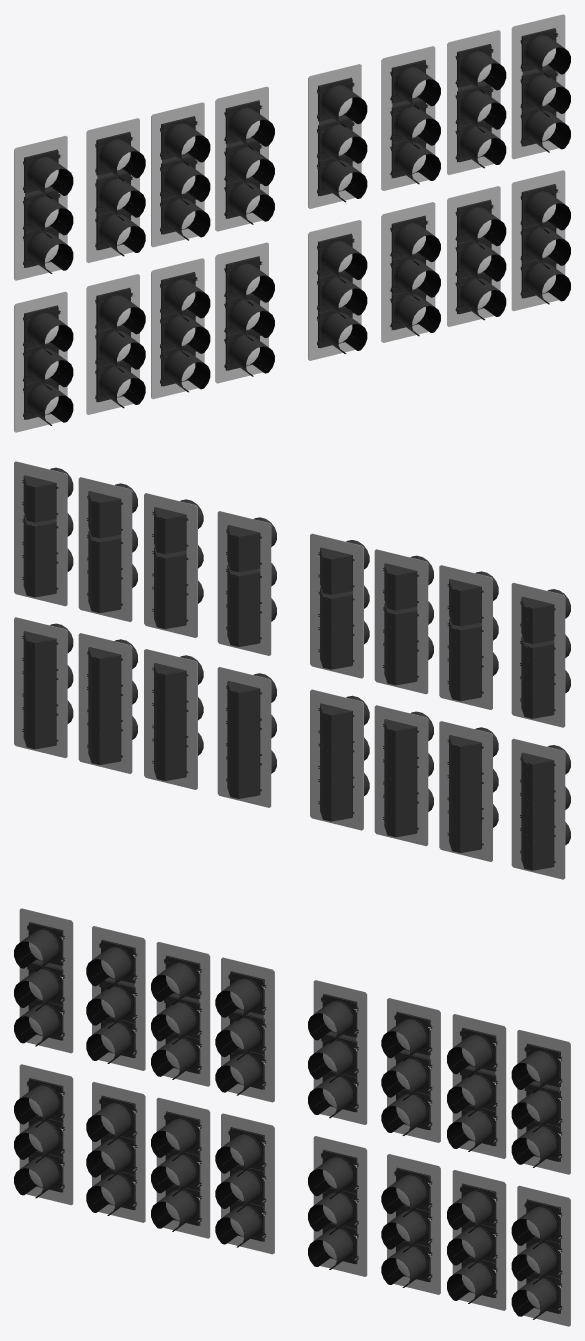
The model's file is McCain Color and Clear Alum Signals.fbx.
The picture shows the model from 3 angles, top to bottom: view 1: azimuth 30°, elevation 25°; view 2: azimuth 150°, elevation 25°; view 3: azimuth 330°, elevation 25°; orthographic projection.
Visible parts, largest first — view 1: Cylinder.060, Cylinder.056, Cylinder.050, Cylinder.042, Cylinder.046, Cylinder.038, Cylinder.054, Cylinder.058, Cylinder.023, Cylinder.010, Cylinder.033, Cylinder.025 (+4 smaller); view 2: Cylinder.054, Cylinder.058, Cylinder.046, Cylinder.038, Cylinder.042, Cylinder.050, Cylinder.056, Cylinder.060, Cylinder.021, Cylinder.029, Cylinder.009, Cylinder.008 (+4 smaller); view 3: Cylinder.058, Cylinder.054, Cylinder.038, Cylinder.046, Cylinder.042, Cylinder.050, Cylinder.056, Cylinder.060, Cylinder.021, Cylinder.008, Cylinder.029, Cylinder.009 (+4 smaller).
Part boxes in pixels (x1=…): Cylinder.060: x1=511, y1=14, x2=570, y2=159; Cylinder.056: x1=381, y1=46, x2=440, y2=190; Cylinder.050: x1=215, y1=86, x2=274, y2=231; Cylinder.042: x1=86, y1=118, x2=145, y2=262; Cylinder.046: x1=151, y1=102, x2=210, y2=247; Cylinder.038: x1=14, y1=135, x2=73, y2=280; Cylinder.054: x1=308, y1=64, x2=367, y2=208; Cylinder.058: x1=447, y1=30, x2=506, y2=174; Cylinder.023: x1=511, y1=170, x2=570, y2=311; Cylinder.010: x1=381, y1=202, x2=440, y2=342; Cylinder.033: x1=215, y1=242, x2=274, y2=383; Cylinder.025: x1=86, y1=274, x2=145, y2=414; Cylinder.054: x1=217, y1=511, x2=276, y2=655; Cylinder.058: x1=78, y1=477, x2=137, y2=621; Cylinder.046: x1=374, y1=549, x2=433, y2=694; Cylinder.038: x1=511, y1=582, x2=570, y2=727; Cylinder.042: x1=439, y1=565, x2=498, y2=709; Cylinder.050: x1=310, y1=533, x2=369, y2=678; Cylinder.056: x1=144, y1=493, x2=203, y2=637; Cylinder.060: x1=14, y1=461, x2=73, y2=606; Cylinder.021: x1=78, y1=633, x2=137, y2=773; Cylinder.029: x1=374, y1=705, x2=433, y2=846; Cylinder.009: x1=217, y1=667, x2=276, y2=807; Cylinder.008: x1=511, y1=738, x2=570, y2=879; Cylinder.058: x1=447, y1=1014, x2=506, y2=1158; Cylinder.054: x1=308, y1=980, x2=367, y2=1124; Cylinder.038: x1=14, y1=908, x2=73, y2=1053; Cylinder.046: x1=151, y1=941, x2=210, y2=1086; Cylinder.042: x1=86, y1=926, x2=145, y2=1070; Cylinder.050: x1=215, y1=957, x2=274, y2=1102; Cylinder.056: x1=381, y1=998, x2=440, y2=1142; Cylinder.060: x1=511, y1=1029, x2=570, y2=1174; Cylinder.021: x1=447, y1=1169, x2=506, y2=1310; Cylinder.008: x1=14, y1=1064, x2=73, y2=1205; Cylinder.029: x1=151, y1=1097, x2=210, y2=1238; Cylinder.009: x1=308, y1=1136, x2=367, y2=1276.
Size of the model in its own units: 596 by 294 by 52.65.
